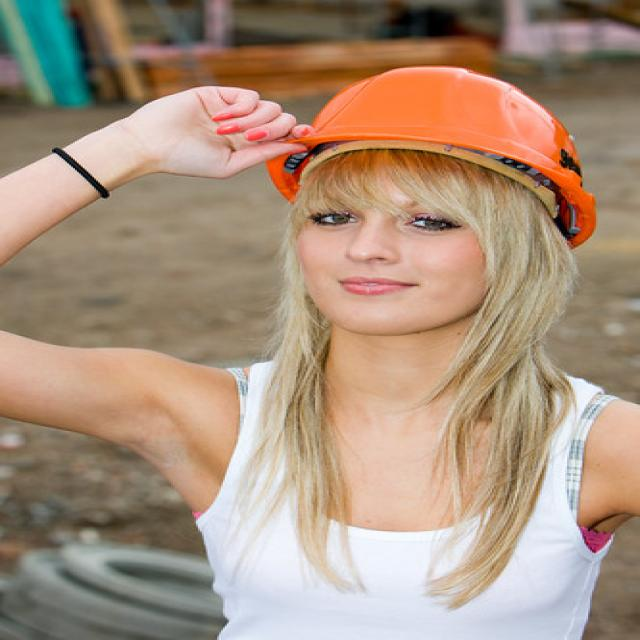Safety-Helmet: (273, 59, 596, 209)
